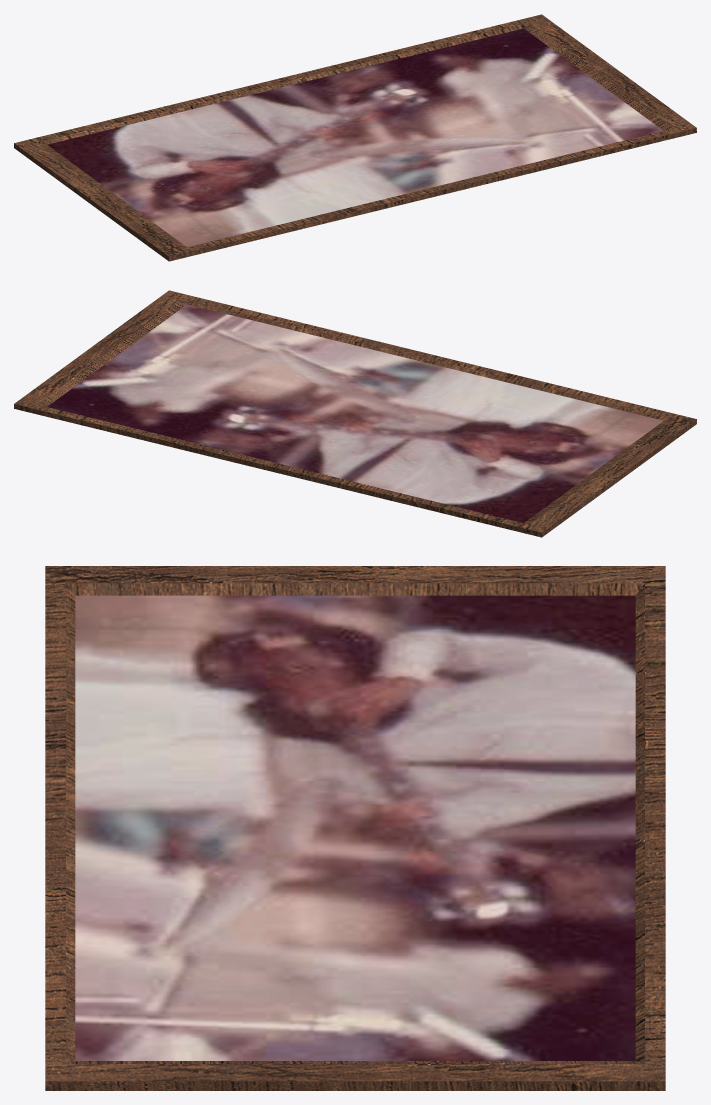
The picture shows the model from 3 angles, top to bottom: view 1: azimuth 30°, elevation 25°; view 2: azimuth 150°, elevation 25°; view 3: azimuth 270°, elevation 25°; orthographic projection. The views are drawn at different scales.
Visible parts, largest first — view 1: Plane, frame1(1); view 2: Plane, frame1(1); view 3: Plane, frame1(1).
Part boxes in pixels (<box>): Plane: <box>47,28,663,247</box>; frame1(1): <box>14,14,696,261</box>; Plane: <box>47,304,663,523</box>; frame1(1): <box>14,290,696,537</box>; Plane: <box>75,595,635,1060</box>; frame1(1): <box>45,566,665,1090</box>.
Size of the model in its own units: 48.38 by 0.4268 by 24.62.
Materials: 2 (2 with a texture image).
